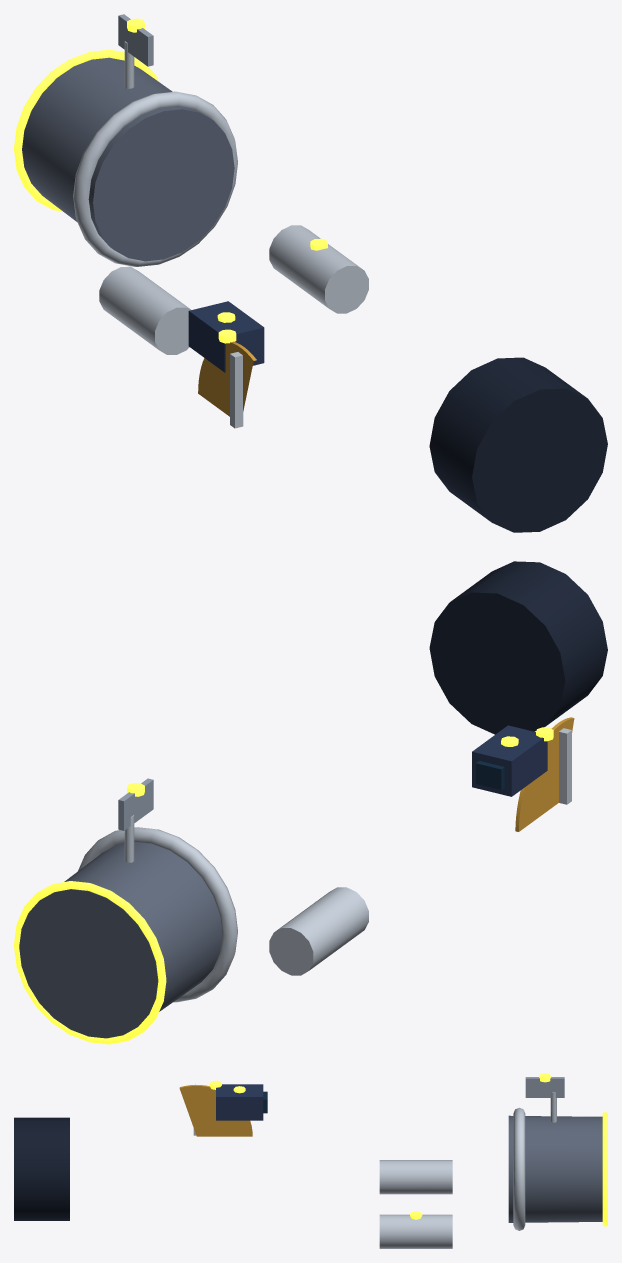
Rendered from tower_nova_range_s6.glb.
The picture shows the model from 3 angles, top to bottom: view 1: azimuth 30°, elevation 25°; view 2: azimuth 150°, elevation 25°; view 3: azimuth 270°, elevation 25°; orthographic projection. The views are drawn at different scales.
Visible parts, largest first — view 1: nova_tube_extension, nova_counterweight, nova_tube_collar, nova_recup_ext_l, nova_recup_ext_r, nova_cradle_optic, nova_tube_ext_glow, nova_quadrant_plate, nova_wind_vane, nova_quadrant_pointer; view 2: nova_tube_extension, nova_counterweight, nova_recup_ext_r, nova_tube_collar, nova_tube_ext_glow, nova_cradle_optic, nova_quadrant_plate, nova_wind_vane, nova_quadrant_pointer, nova_cradle_optic_lens; view 3: nova_tube_extension, nova_counterweight, nova_recup_ext_r, nova_recup_ext_l, nova_quadrant_plate, nova_cradle_optic, nova_tube_collar, nova_wind_vane, nova_tube_ext_glow.
Part boxes in pixels (x1,y1,x2,y2): nova_tube_extension: (22, 57, 234, 261); nova_counterweight: (429, 357, 607, 532); nova_tube_collar: (73, 91, 237, 266); nova_recup_ext_l: (269, 225, 368, 313); nova_recup_ext_r: (99, 266, 191, 354); nova_cradle_optic: (188, 301, 264, 372); nova_tube_ext_glow: (14, 49, 158, 211); nova_quadrant_plate: (198, 341, 256, 416); nova_wind_vane: (118, 14, 153, 66); nova_quadrant_pointer: (230, 352, 243, 428); nova_tube_extension: (19, 842, 222, 1038); nova_counterweight: (429, 561, 607, 734); nova_recup_ext_r: (269, 887, 368, 975); nova_tube_collar: (78, 827, 237, 1002); nova_tube_ext_glow: (14, 881, 166, 1044); nova_cradle_optic: (472, 725, 547, 796); nova_quadrant_plate: (515, 717, 574, 831); nova_wind_vane: (118, 778, 153, 830); nova_quadrant_pointer: (559, 728, 571, 804); nova_cradle_optic_lens: (476, 761, 504, 789); nova_tube_extension: (508, 1115, 602, 1222); nova_counterweight: (14, 1117, 69, 1220); nova_recup_ext_r: (379, 1160, 452, 1194); nova_recup_ext_l: (379, 1214, 452, 1248); nova_quadrant_plate: (179, 1084, 252, 1136); nova_cradle_optic: (216, 1084, 263, 1120); nova_tube_collar: (513, 1107, 525, 1230); nova_wind_vane: (525, 1077, 564, 1097); nova_tube_ext_glow: (602, 1112, 607, 1226).
Size of the model in its own units: 0.973 by 0.769 by 2.76.
